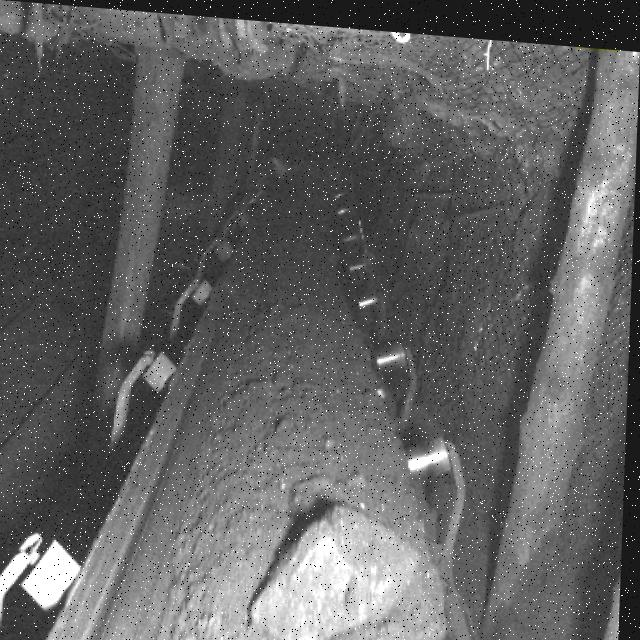large_sized_coal: (252, 493, 418, 640)
